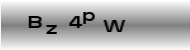4: (68, 14, 83, 28)
B: (28, 15, 42, 28)
W: (101, 19, 126, 32)
p: (81, 10, 95, 24)
z: (44, 24, 57, 34)
